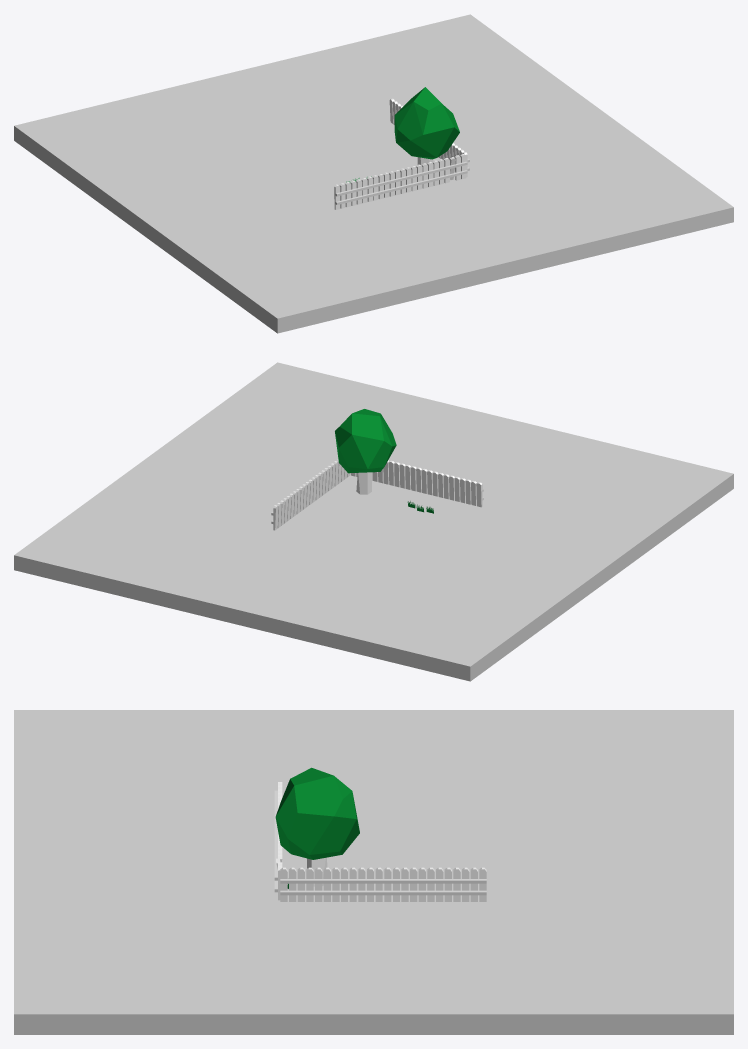
Rendered from game.glb.
3 renders of one model, top to bottom at view 1: azimuth 30°, elevation 25°; view 2: azimuth 150°, elevation 25°; view 3: azimuth 270°, elevation 25°, orthographic. The views are drawn at different scales.
Parts seen in each view (by area): view 1: Ground, Tree_leaves, Fence, beam_upper, beam_lower; view 2: Ground, Tree_leaves, Fence, Fence.001; view 3: Ground, Tree_leaves, Fence.001, beam_lower.001, beam_upper.001.
Boxes of the visible parts, box(x1,y1,x2,y2) form: Ground: box(14, 14, 733, 333); Tree_leaves: box(394, 87, 459, 159); Fence: box(334, 154, 466, 209); beam_upper: box(335, 161, 467, 196); beam_lower: box(335, 170, 467, 204); Ground: box(14, 362, 733, 681); Tree_leaves: box(335, 409, 396, 473); Fence: box(351, 460, 482, 507); Fence.001: box(273, 459, 350, 530); Ground: box(14, 710, 733, 1034); Tree_leaves: box(275, 767, 359, 859); Fence.001: box(280, 867, 486, 901); beam_lower.001: box(280, 890, 486, 895); beam_upper.001: box(280, 879, 486, 883).
Size of the model in its own units: 128 by 25.81 by 128.
